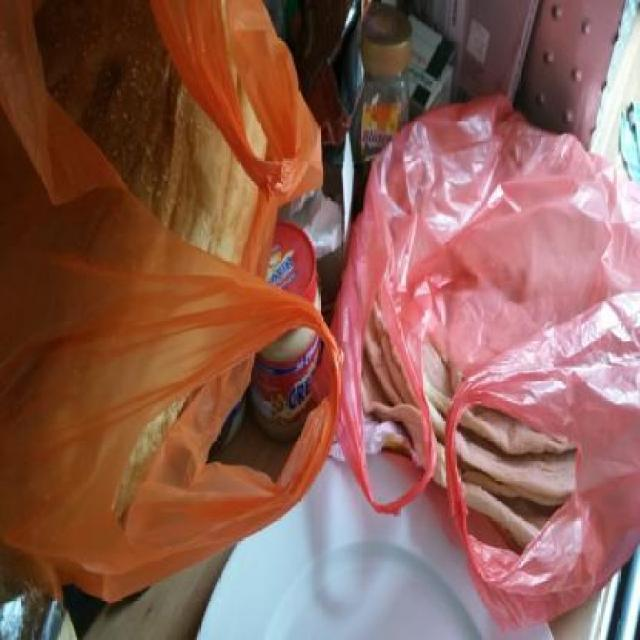plastic bag: (0, 0, 343, 605), (312, 92, 638, 632)
